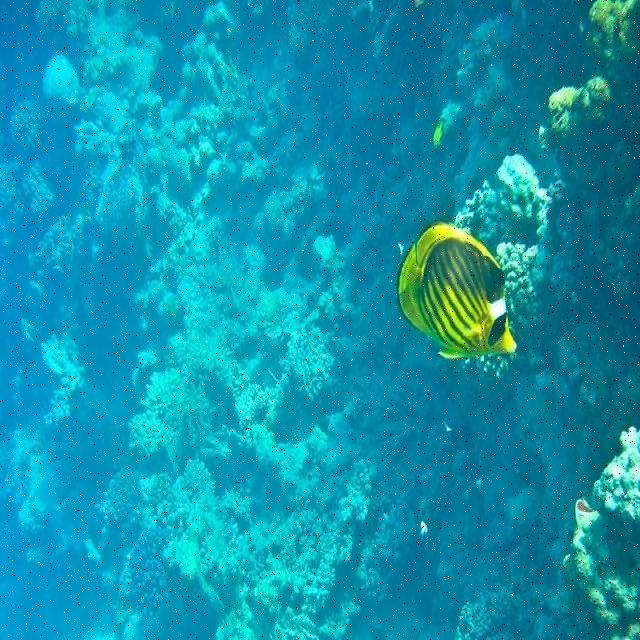fish: (397, 218, 519, 362), (434, 122, 445, 147)
